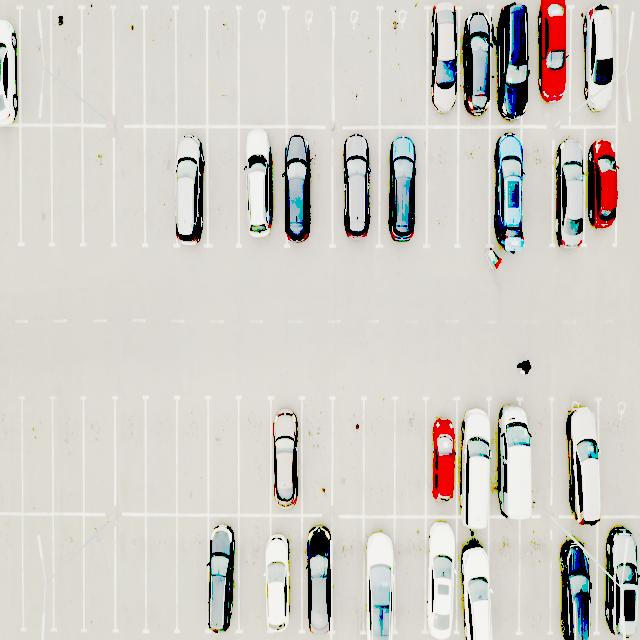empty: (238, 8, 289, 126), (287, 10, 337, 127), (377, 7, 425, 128), (333, 8, 380, 126), (45, 516, 87, 633), (46, 5, 86, 126), (48, 127, 86, 250), (15, 126, 52, 251), (142, 6, 180, 127), (113, 5, 150, 126), (175, 7, 212, 127), (205, 128, 242, 248), (78, 131, 115, 251), (77, 5, 114, 125), (78, 399, 116, 515), (601, 403, 640, 516), (205, 7, 242, 126), (16, 400, 54, 515), (17, 515, 54, 633), (177, 396, 214, 513), (141, 130, 177, 250), (112, 131, 148, 251), (49, 400, 86, 516), (143, 396, 180, 512), (458, 128, 493, 250), (115, 396, 152, 511), (79, 515, 115, 633), (142, 517, 178, 633), (359, 398, 395, 514), (239, 396, 275, 512), (235, 397, 271, 512), (520, 522, 556, 637), (115, 516, 150, 633), (205, 396, 240, 512), (331, 397, 366, 512), (177, 517, 211, 634), (424, 126, 457, 246), (302, 397, 337, 510), (394, 398, 428, 514), (332, 520, 366, 636), (396, 519, 429, 638), (298, 398, 332, 512), (15, 8, 48, 124), (488, 518, 520, 636), (525, 126, 555, 248), (0, 396, 24, 515), (0, 514, 24, 633), (0, 128, 22, 251)
occupied: (488, 128, 540, 252), (552, 394, 600, 518), (282, 130, 331, 250), (240, 128, 286, 249), (333, 130, 379, 249), (382, 124, 428, 243), (378, 130, 424, 248), (574, 1, 618, 124), (491, 395, 535, 516), (579, 4, 622, 124), (237, 125, 279, 247), (551, 534, 596, 639), (600, 519, 640, 637), (262, 513, 300, 634), (489, 128, 526, 252), (535, 1, 572, 123), (459, 394, 496, 516), (493, 5, 529, 124), (426, 6, 461, 126), (459, 518, 493, 638), (269, 396, 304, 512), (424, 397, 458, 516), (424, 518, 458, 637), (362, 516, 395, 638), (177, 130, 210, 251), (554, 130, 587, 247), (464, 8, 496, 125), (207, 516, 238, 632), (589, 132, 620, 245), (299, 523, 330, 635), (303, 523, 334, 634), (585, 128, 615, 240), (0, 6, 22, 125)
